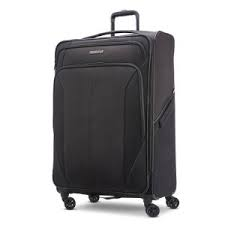suitcase: (51, 9, 183, 218)
